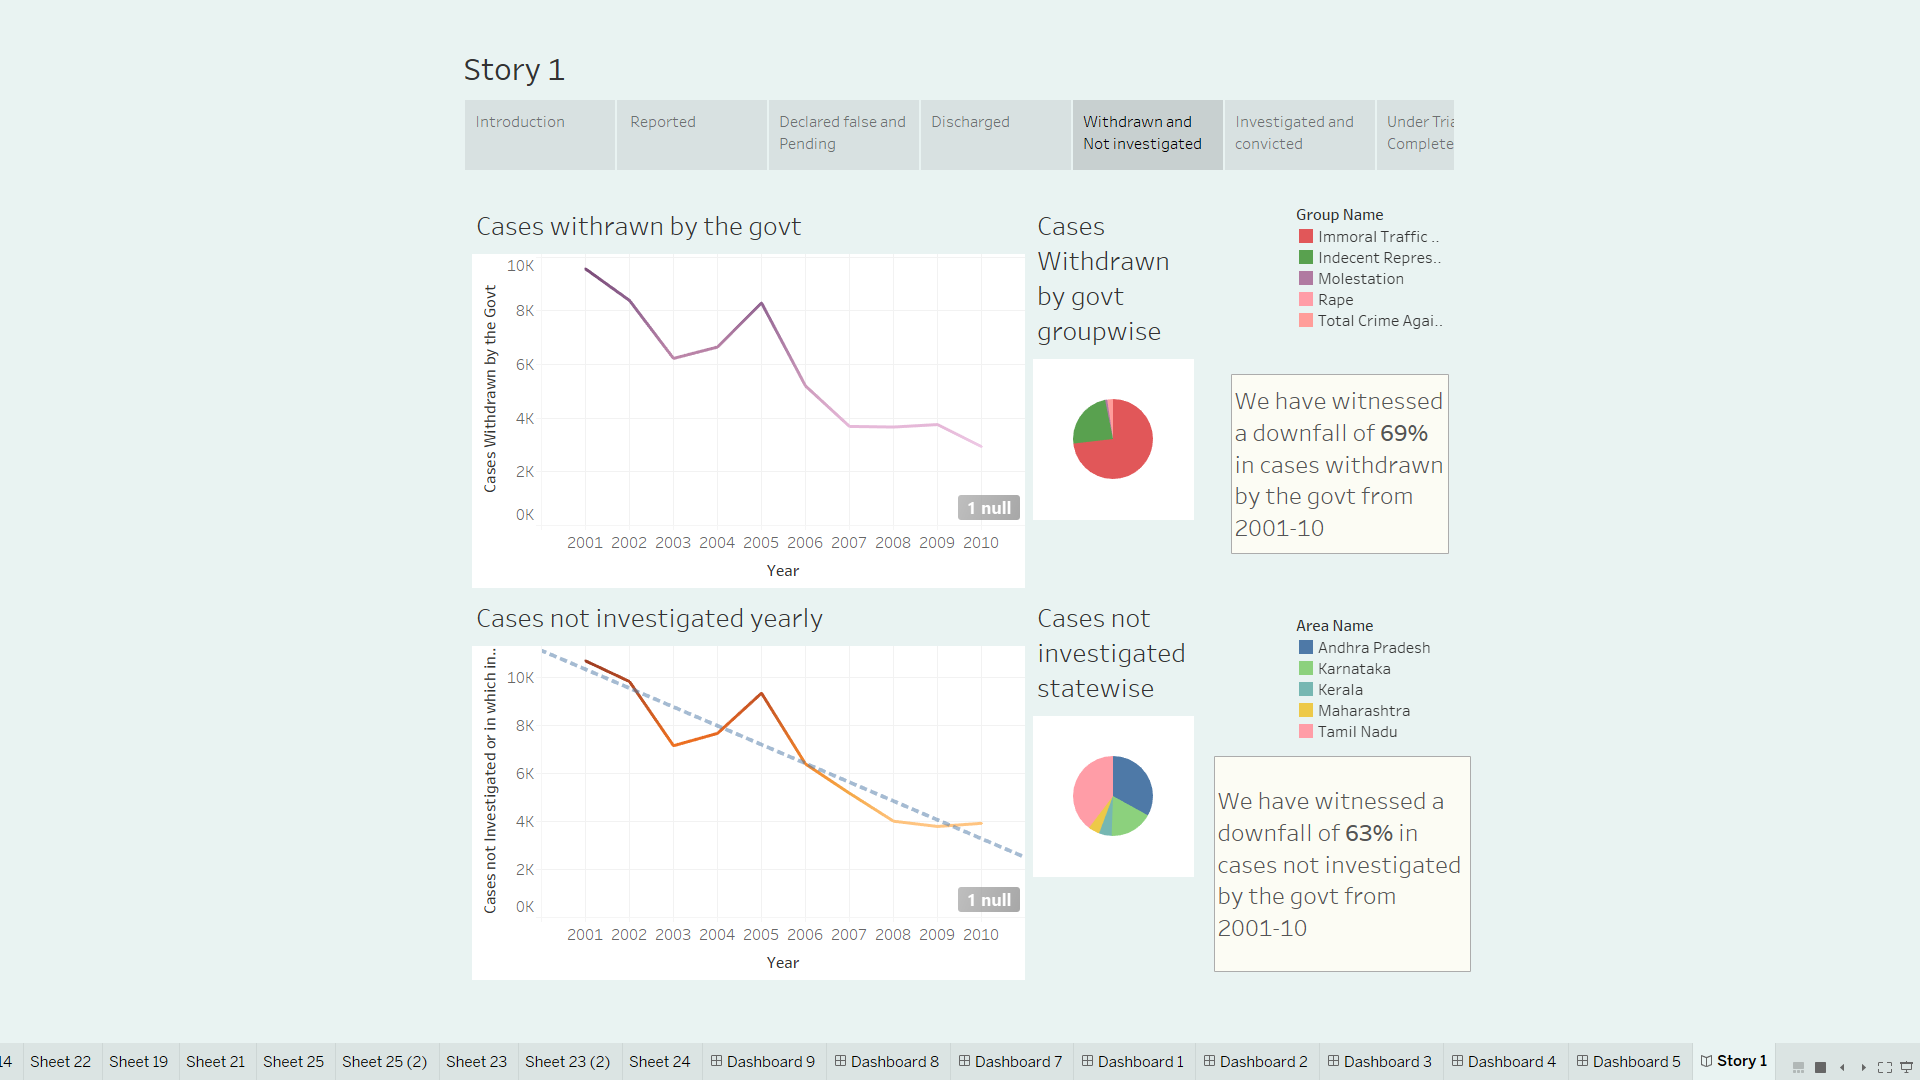

Layout of this report page (visuals, bound fields, positions):
{"tool":"tableau","page":{"name":"Dashboard 5","canvas":[1000,800],"ordinal":4},"visuals":[{"type":"worksheet","title":"Sheet 14","mark":"Automatic","rows":["Cases_Withdrawn_by_the_Govt"],"cols":["Year"],"box":[8,8,561,392]},{"type":"worksheet","title":"Sheet 22","mark":"Pie","box":[569,8,263,392]},{"type":"legend","title":"Sheet 22","param":"[federated.0uup56l12bcoac1b76so511qog2b].[none:Group_Name:nk]","box":[832,8,160,411]},{"type":"worksheet","title":"Sheet 19","mark":"Automatic","rows":["Cases_not_Investigated_or_in_which_investigation_was_refused"],"cols":["Year"],"box":[8,400,561,392]},{"type":"worksheet","title":"Sheet 21","mark":"Pie","box":[569,400,263,392]},{"type":"legend","title":"Sheet 21","param":"[federated.0uup56l12bcoac1b76so511qog2b].[none:Area_Name:nk]","box":[832,419,160,135]}]}

Visuals, with their boxes on the page's 1000x800 design canvas (x1, y1, x2, y2). These are canvas units, not pixel positions in the 1920x1080 screenshot, which may show the page scaled, cropped or inside an application window:
"Sheet 14" worksheet: <bbox>8, 8, 569, 400</bbox>
"Sheet 22" worksheet (Pie marks): <bbox>569, 8, 832, 400</bbox>
"Sheet 22" legend: <bbox>832, 8, 992, 419</bbox>
"Sheet 19" worksheet: <bbox>8, 400, 569, 792</bbox>
"Sheet 21" worksheet (Pie marks): <bbox>569, 400, 832, 792</bbox>
"Sheet 21" legend: <bbox>832, 419, 992, 554</bbox>
